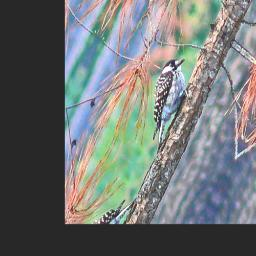Woodpecker: (126, 40, 209, 164)
